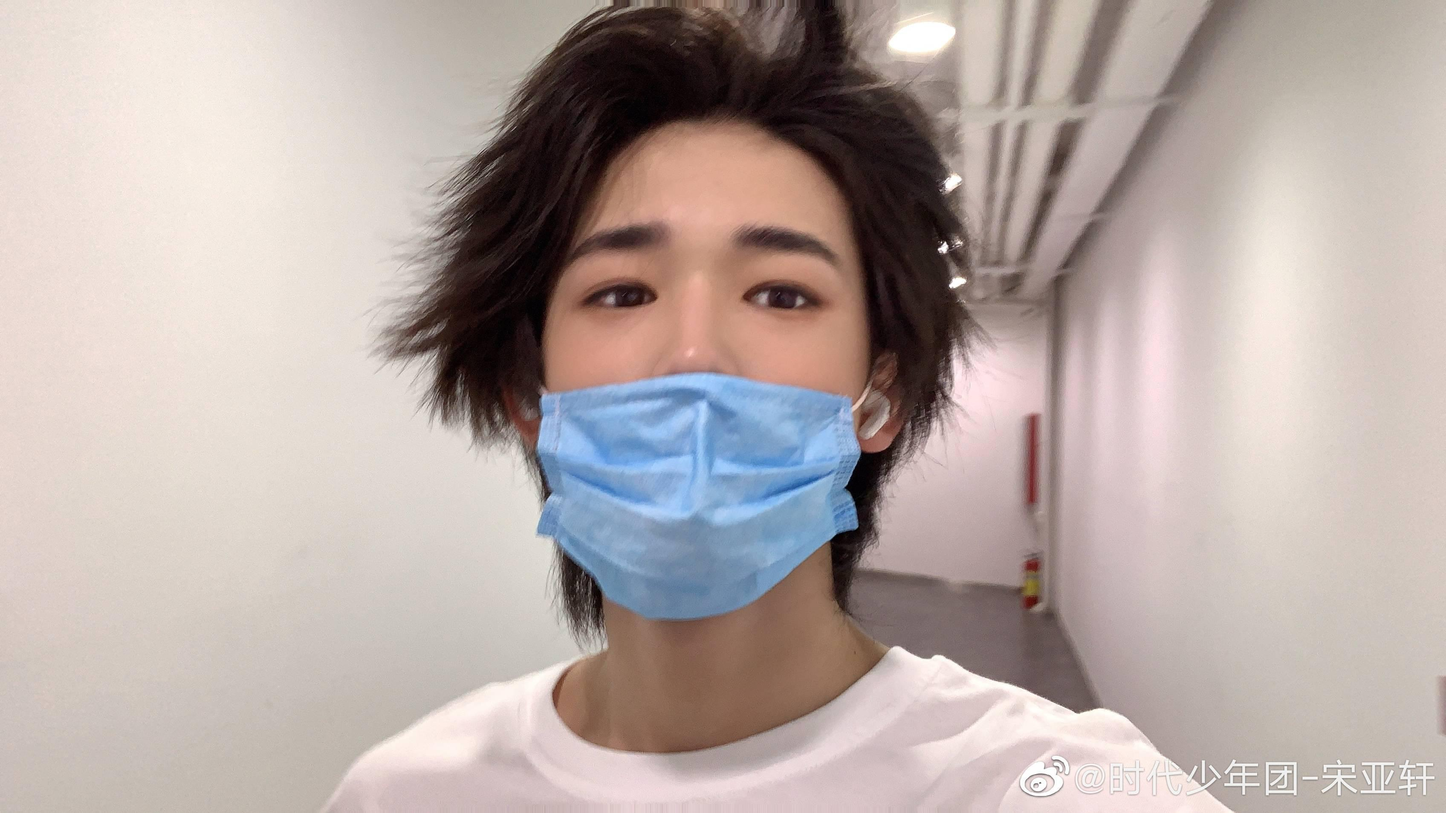WRONG: (544, 168, 868, 588)
